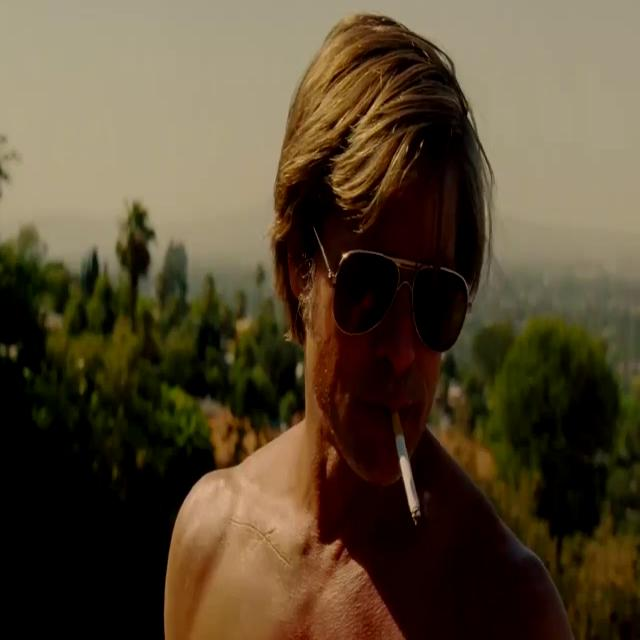Smooking: (391, 401, 430, 536)
